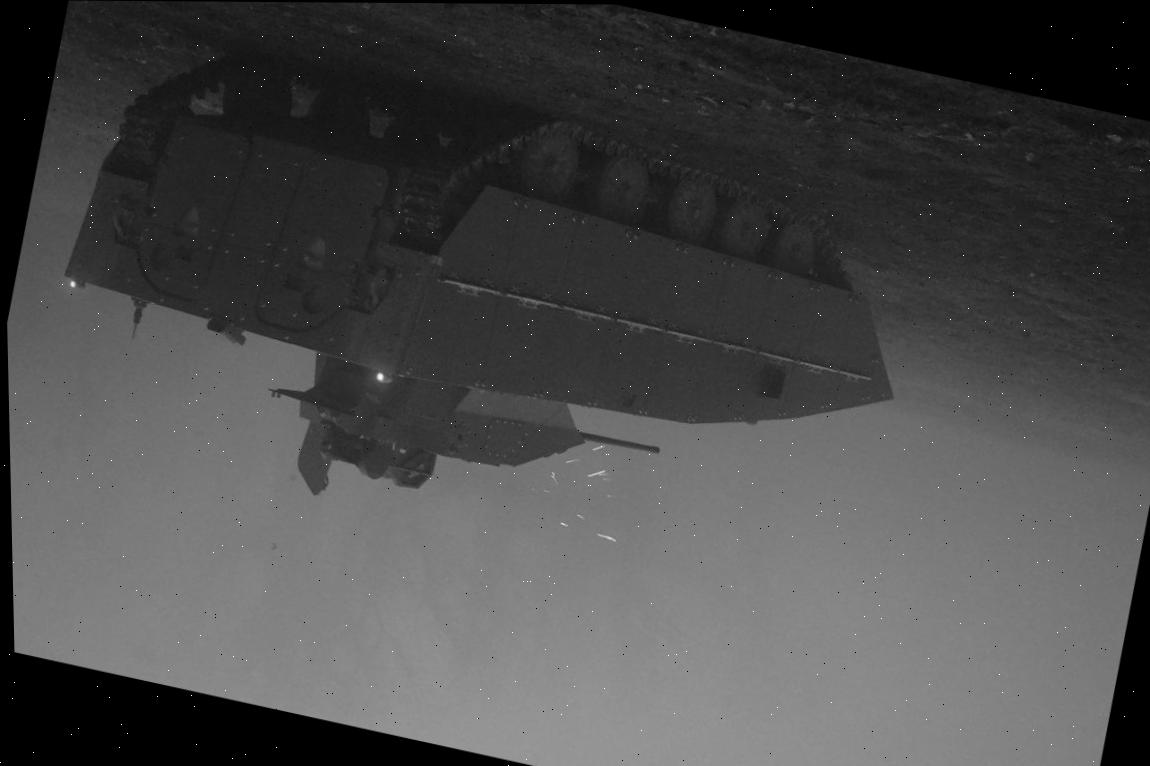tank: (24, 23, 944, 618)
